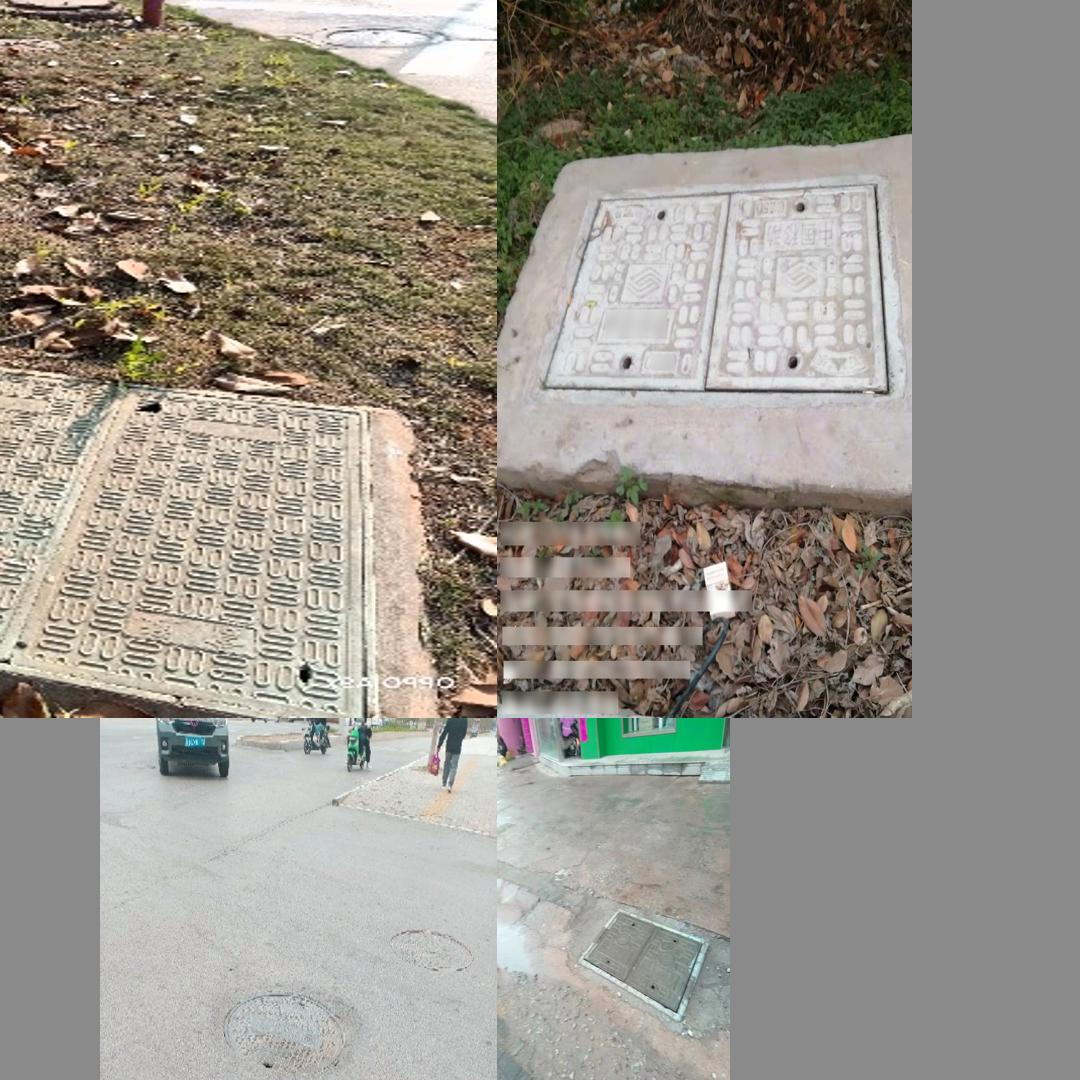good: (0, 356, 380, 718), (575, 178, 898, 413), (578, 907, 707, 1022), (222, 992, 345, 1070), (389, 929, 474, 970)
